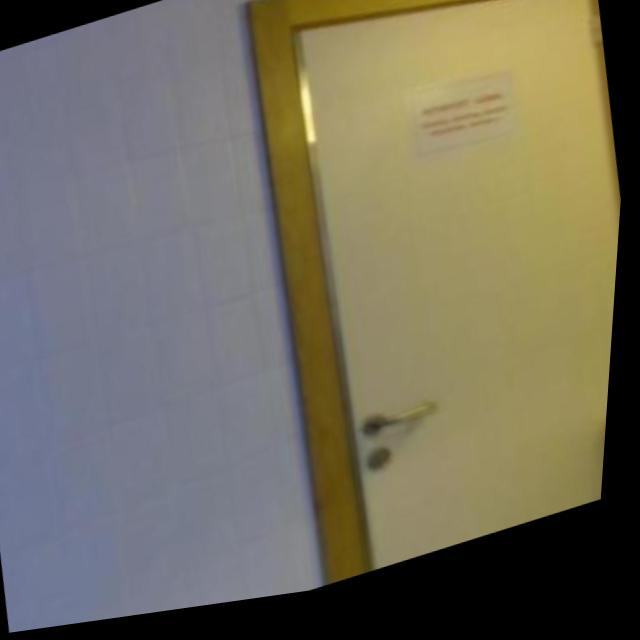door_handle: (363, 398, 452, 456)
